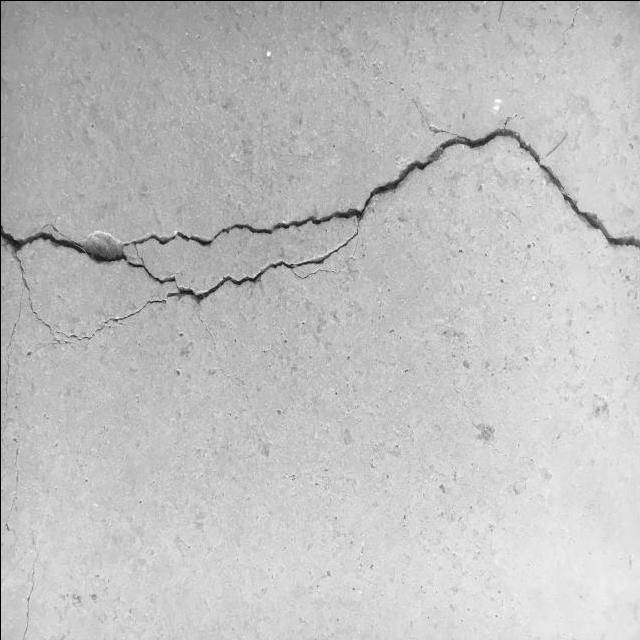SurfaceCrack: (1, 95, 640, 355)
